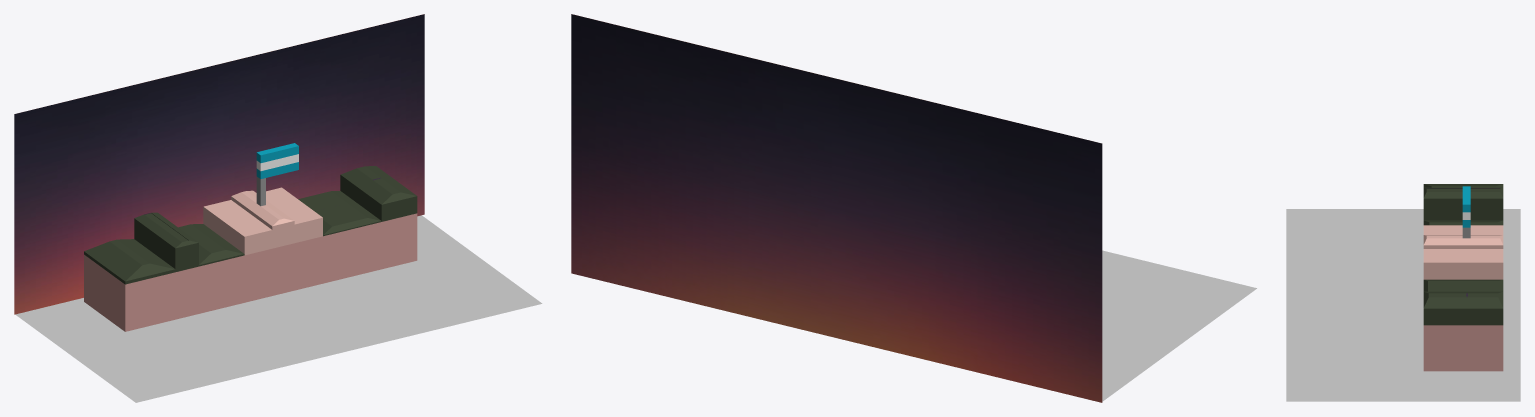
File: casa rosada prototipo.fbx
3 views of the same model, side by side, from view 1: azimuth 30°, elevation 25°; view 2: azimuth 150°, elevation 25°; view 3: azimuth 270°, elevation 25° (orthographic). The views are drawn at different scales.
Visible parts, largest first — view 1: Plane.002, Plane.003, Cube; view 2: Plane.002, Plane.003; view 3: Plane.003, Cube.
Boxes of the visible parts, box(x1,y1,x2,y2) form: Plane.002: box(14, 14, 424, 314); Plane.003: box(15, 215, 542, 402); Cube: box(84, 143, 417, 331); Plane.002: box(571, 14, 1102, 402); Plane.003: box(1102, 250, 1256, 401); Plane.003: box(1286, 209, 1520, 401); Cube: box(1423, 184, 1503, 371).
Size of the model in its own units: 1334 by 623 by 680.
